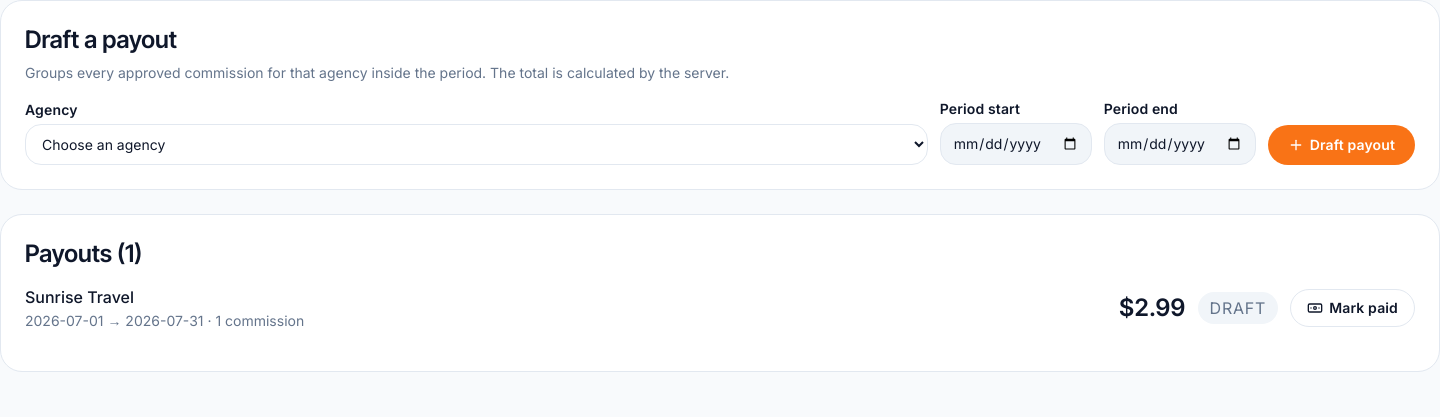
Scenario: drafting a payout › surfaces a per-field rejection
Select "Sunrise Travel" in the dropdown named "agency" at (476, 144), box [25,124,928,165]
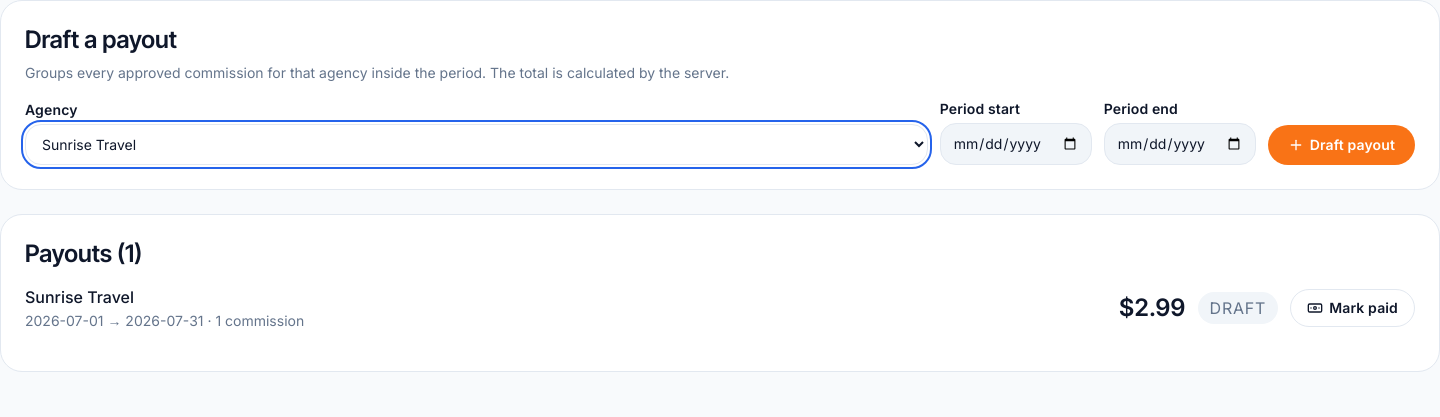
Type "2026-09-30" into the 1st date field named "period start" at (1016, 144), box [940,123,1092,165]
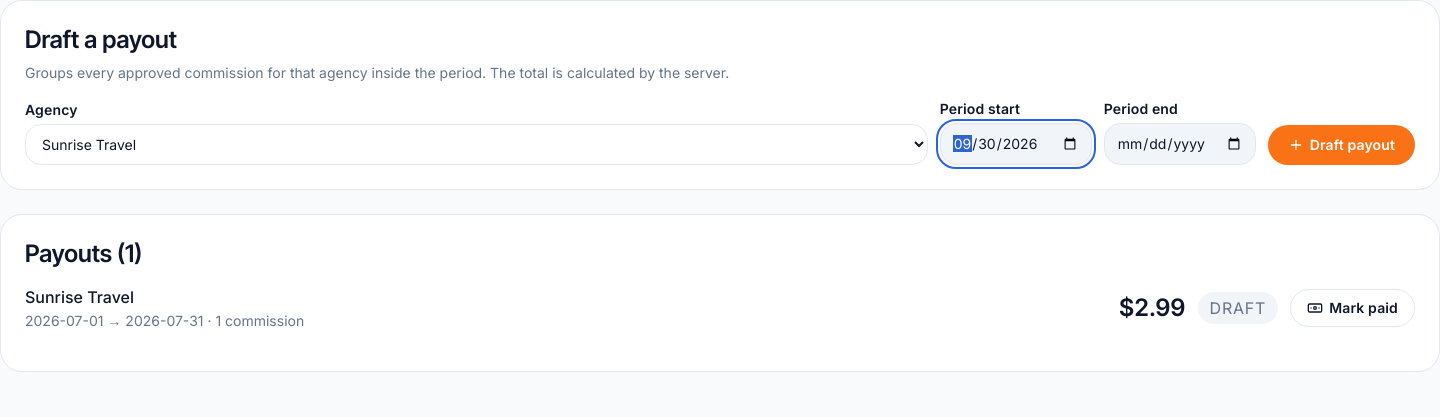
Type "2026-09-01" into the 2nd date field named "period end" at (1180, 144), box [1104,123,1256,165]
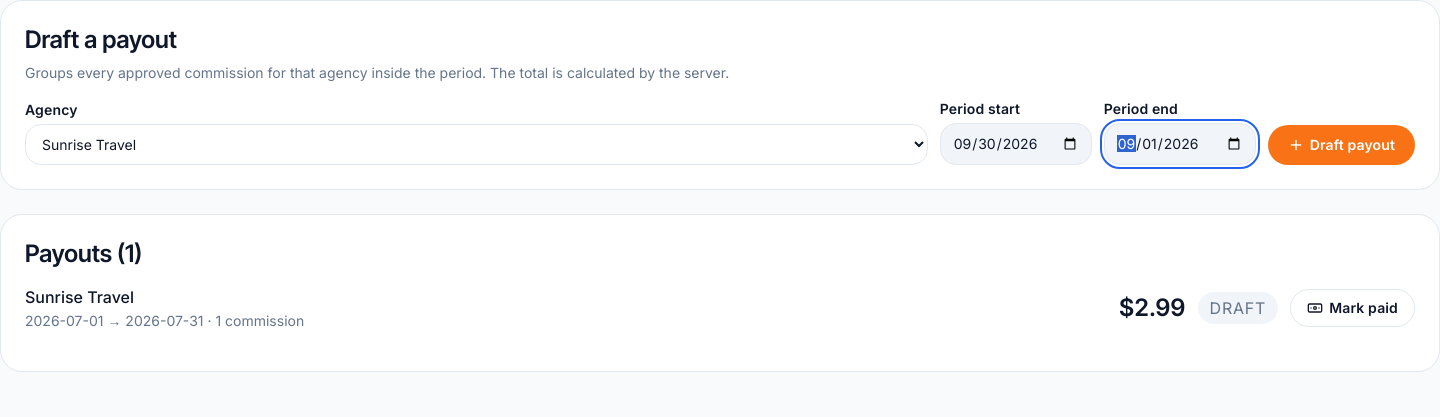
Click the 1st button named "draft payout" at (1341, 145), box [1268,125,1415,165]
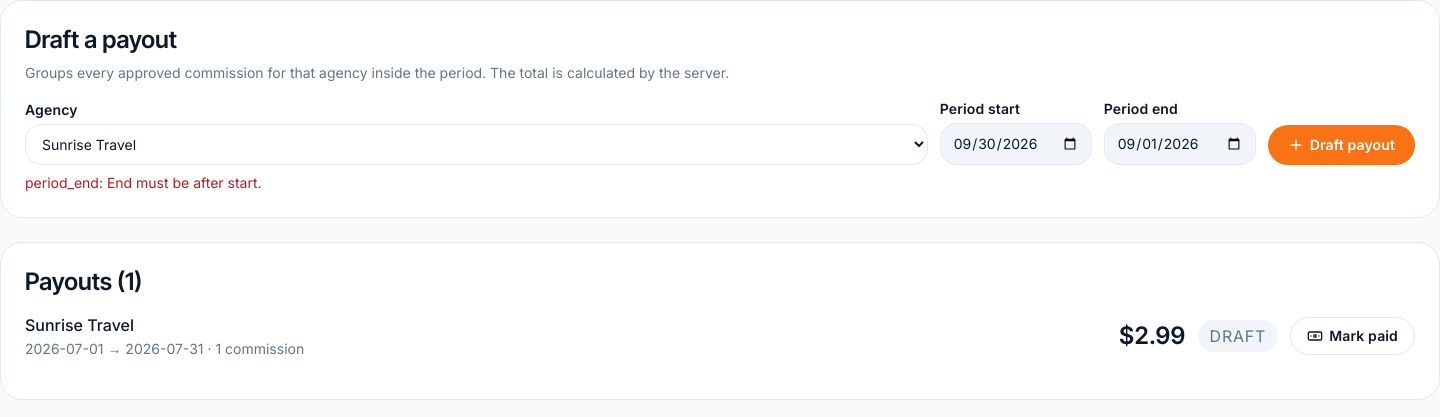
Now the text "end must be after start" is shown, box [107,174,262,191]
